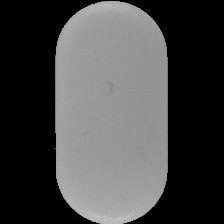10544-944: (0, 0, 224, 224)
